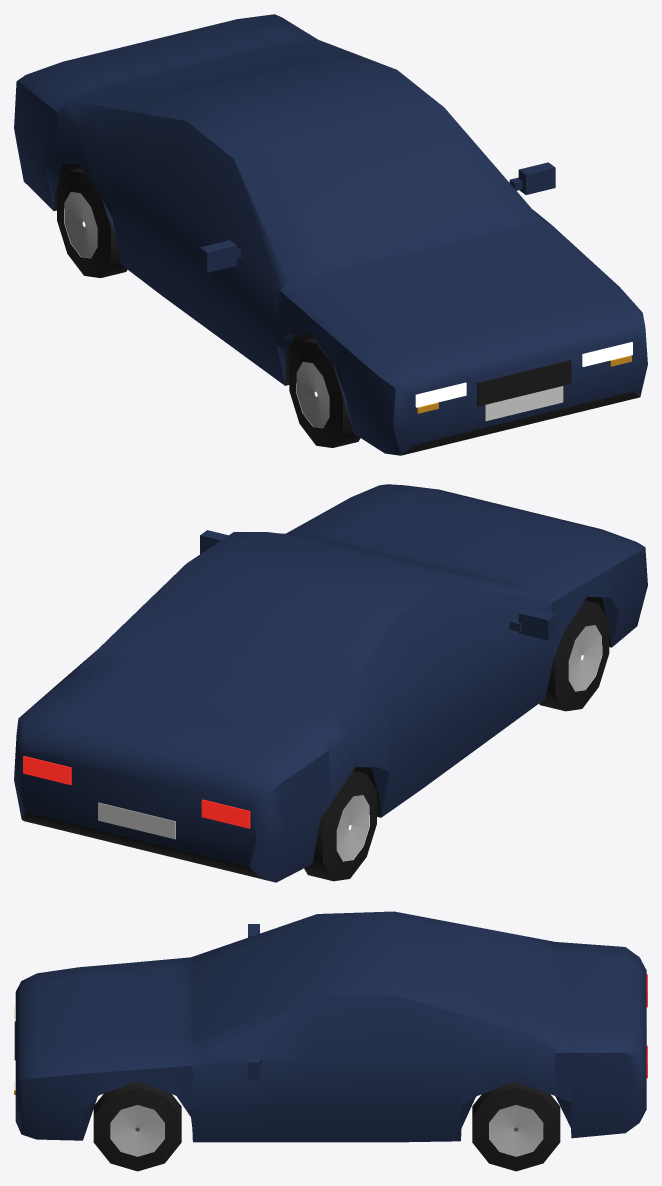
Rendered from coupe_navy_lod1.glb.
3 views of the same model, one above another, from view 1: azimuth 30°, elevation 25°; view 2: azimuth 150°, elevation 25°; view 3: azimuth 270°, elevation 25° (orthographic). The views are drawn at different scales.
Visible parts, largest first — view 1: coupe_navy_lod1; view 2: coupe_navy_lod1; view 3: coupe_navy_lod1.
Boxes of the visible parts, left/top/right/bottom form: coupe_navy_lod1: left=14, top=14, right=647, bottom=455; coupe_navy_lod1: left=14, top=484, right=647, bottom=882; coupe_navy_lod1: left=14, top=911, right=647, bottom=1171.
Size of the model in its own units: 0.117 by 0.0675 by 0.2261.
